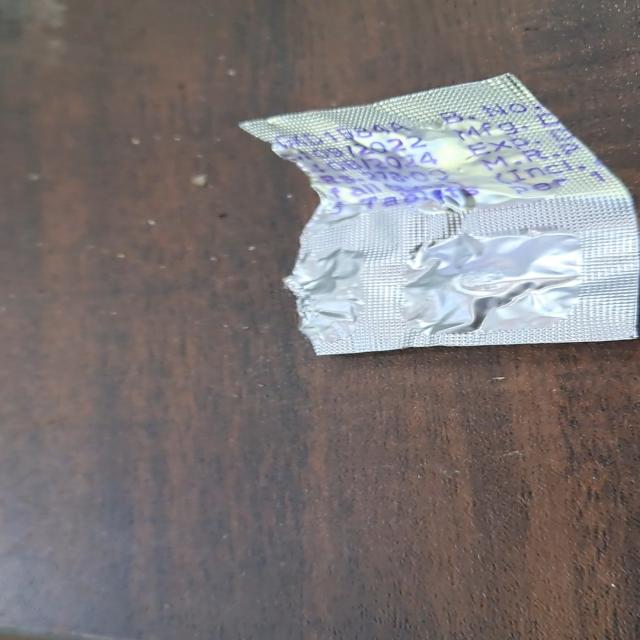Anorganik: (222, 73, 640, 370)
